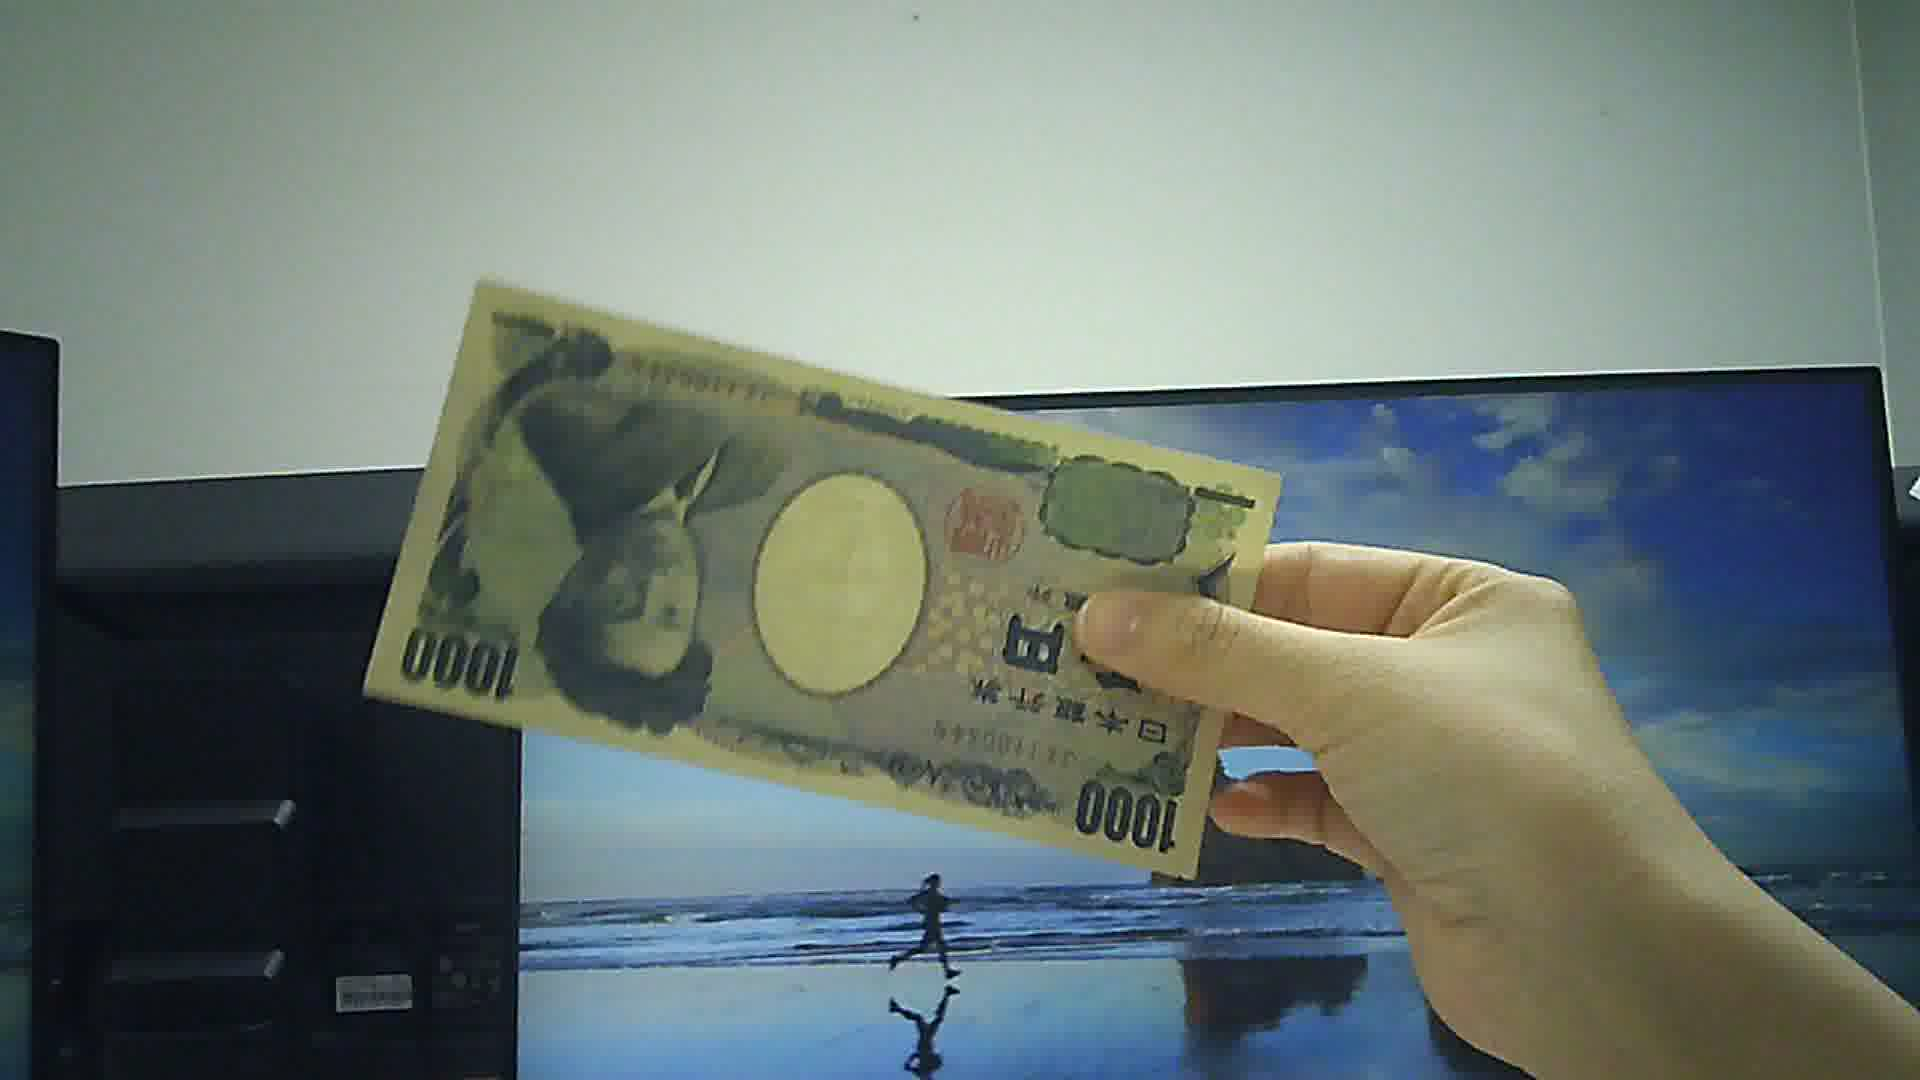1,000 Yen: (361, 268, 1276, 891)
